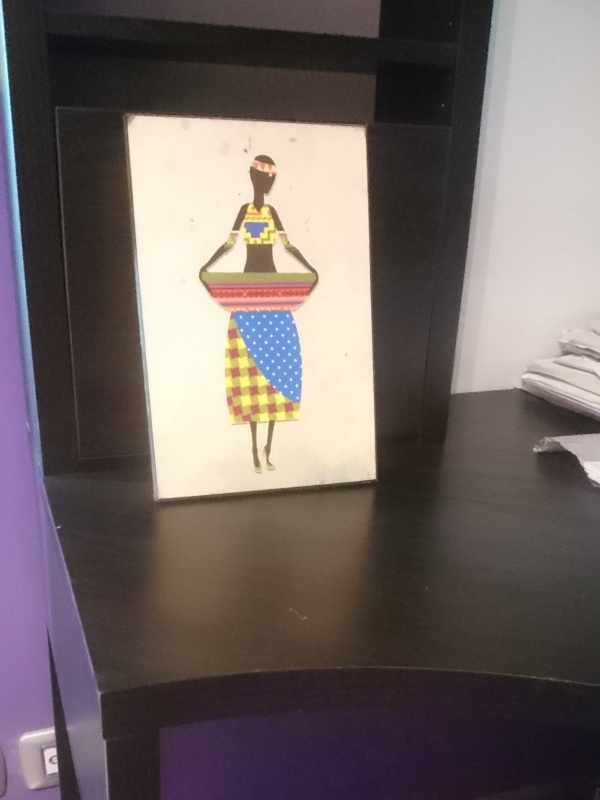my image: (128, 118, 373, 499)
